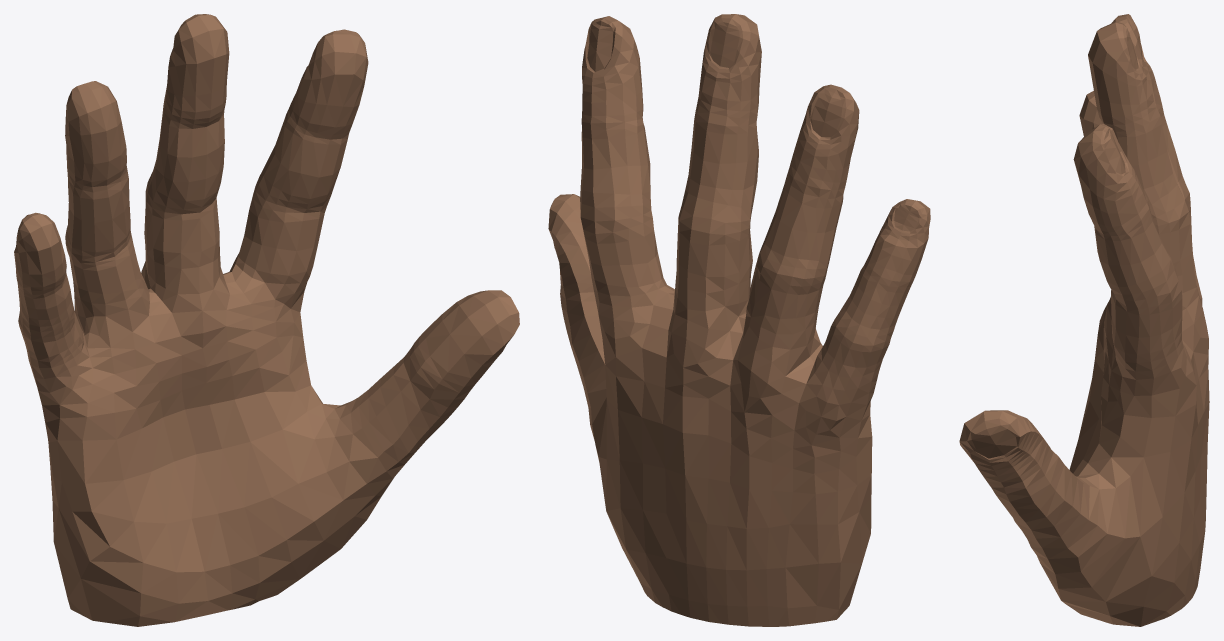
Rendered from hand_model.fbx.
The picture shows the model from 3 angles, left to right: view 1: azimuth 30°, elevation 25°; view 2: azimuth 150°, elevation 25°; view 3: azimuth 270°, elevation 25°; orthographic projection. The views are drawn at different scales.
Visible parts, largest first — view 1: node_id31; view 2: node_id31; view 3: node_id31.
Part boxes in pixels (x1=…): node_id31: x1=14, y1=14, x2=519, y2=626; node_id31: x1=548, y1=14, x2=930, y2=626; node_id31: x1=959, y1=14, x2=1209, y2=626.
Bounding box in the file's own units: 0.4 × 0.512 × 0.2054.
